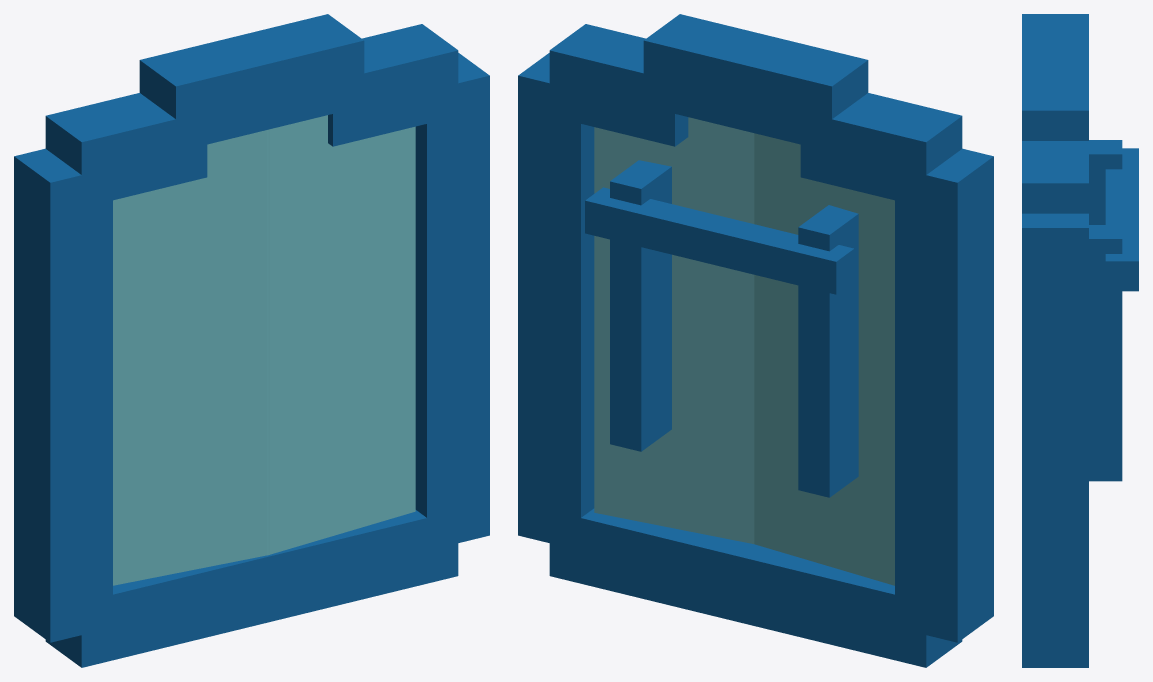
File: CuttingShield.fbx
3 views of the same model, side by side, from view 1: azimuth 30°, elevation 25°; view 2: azimuth 150°, elevation 25°; view 3: azimuth 270°, elevation 25° (orthographic). The views are drawn at different scales.
Visible parts, largest first — view 1: Cube.014, Cube.001; view 2: Cube.014, Cube.001, Cube.017; view 3: Cube.014, Cube.017.
Boxes of the visible parts, bbox=[...] form: Cube.014: bbox=[14, 14, 489, 667]; Cube.001: bbox=[113, 115, 415, 585]; Cube.014: bbox=[518, 14, 993, 667]; Cube.001: bbox=[594, 117, 894, 585]; Cube.017: bbox=[585, 160, 858, 497]; Cube.014: bbox=[1022, 14, 1088, 667]; Cube.017: bbox=[1089, 140, 1138, 481].
Bounding box in the file's own units: 140 × 170 × 35.
